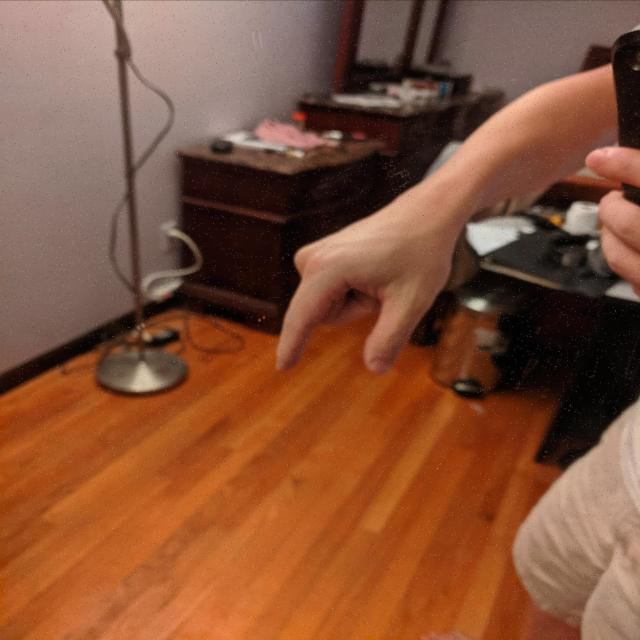Q: (272, 206, 460, 379)
